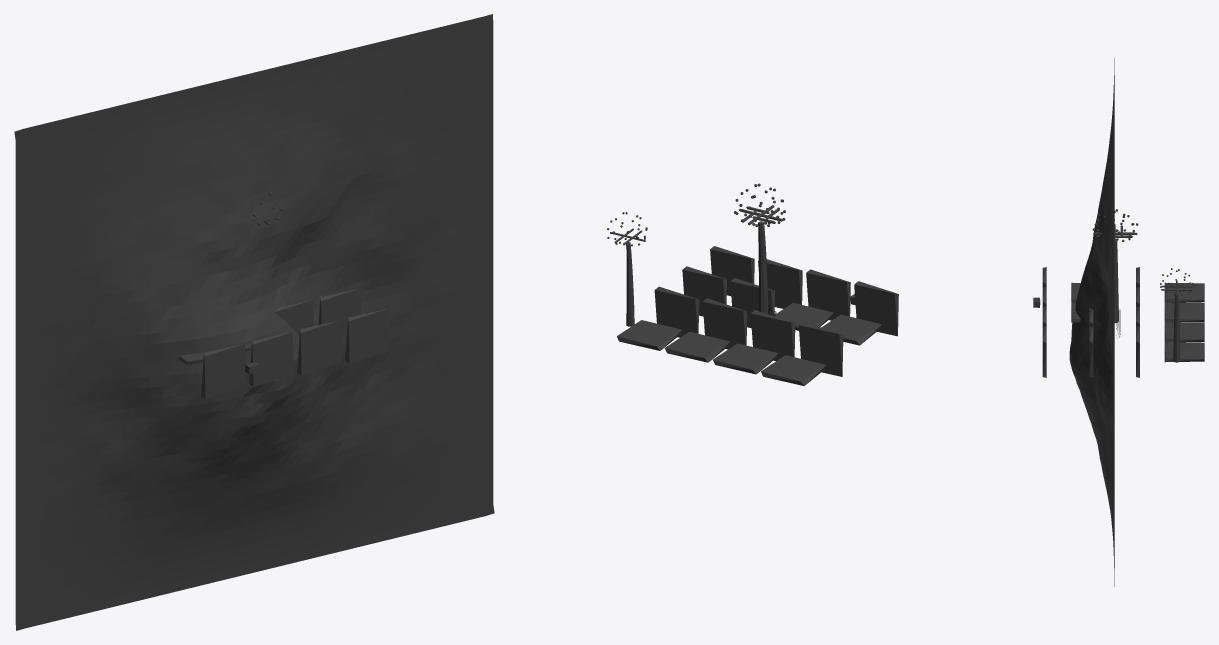
Rendered from blender_input.glb.
3 renders of one model, left to right at view 1: azimuth 30°, elevation 25°; view 2: azimuth 150°, elevation 25°; view 3: azimuth 270°, elevation 25°, orthographic. The views are drawn at different scales.
Parts seen in each view (by area): view 1: body; view 2: body; view 3: body.
Boxes of the visible parts, x1,y1,x2,y2 form: body: (14,14,494,630); body: (607,183,898,386); body: (1032,58,1204,586).
Bounding box in the file's own units: 3000 × 2989 × 1107.
1 material, 1 textured.
